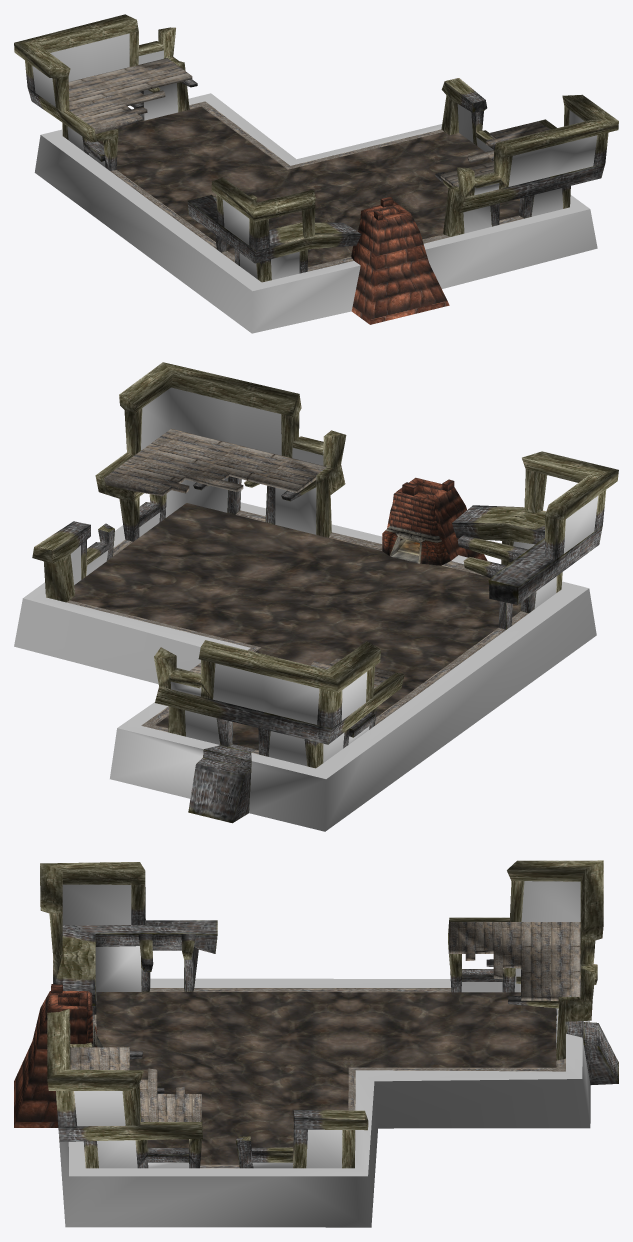
The model's file is huruinedbuildingsbig03.obj.
3 renders of one model, top to bottom at view 1: azimuth 30°, elevation 25°; view 2: azimuth 150°, elevation 25°; view 3: azimuth 270°, elevation 25°, orthographic. The views are drawn at different scales.
Parts seen in each view (by area): view 1: Big03; view 2: Big03; view 3: Big03.
Boxes of the visible parts, x1,y1,x2,y2 form: Big03: (14, 14, 618, 333); Big03: (14, 362, 618, 831); Big03: (14, 860, 618, 1227).
Bounding box in the file's own units: 39.56 × 13.25 × 46.15.
